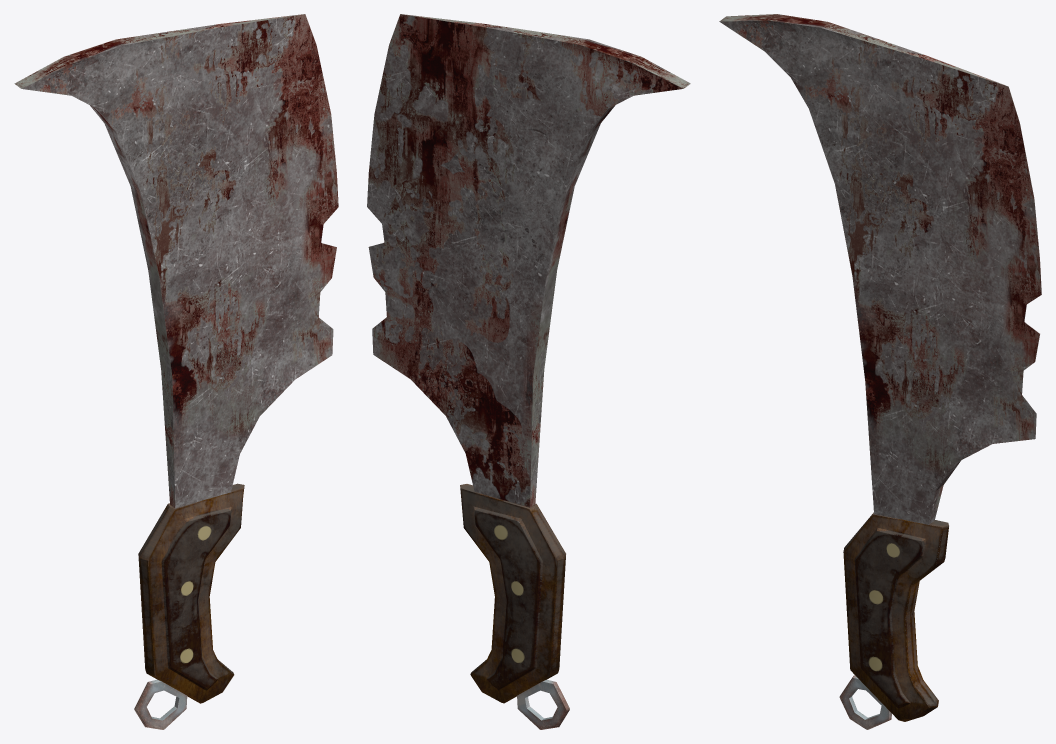
Rendered from butcher_knife.glb.
3 views of the same model, side by side, from view 1: azimuth 30°, elevation 25°; view 2: azimuth 150°, elevation 25°; view 3: azimuth 330°, elevation 25° (orthographic).
Parts seen in each view (by area): view 1: Object_2; view 2: Object_2; view 3: Object_2.
Boxes of the visible parts, x1,y1,x2,y2 form: Object_2: (14, 14, 338, 729); Object_2: (367, 14, 690, 729); Object_2: (719, 14, 1041, 729).
Size of the model in its own units: 1.88 by 3.92 by 0.1723.
Materials: 1 (1 with a texture image).
